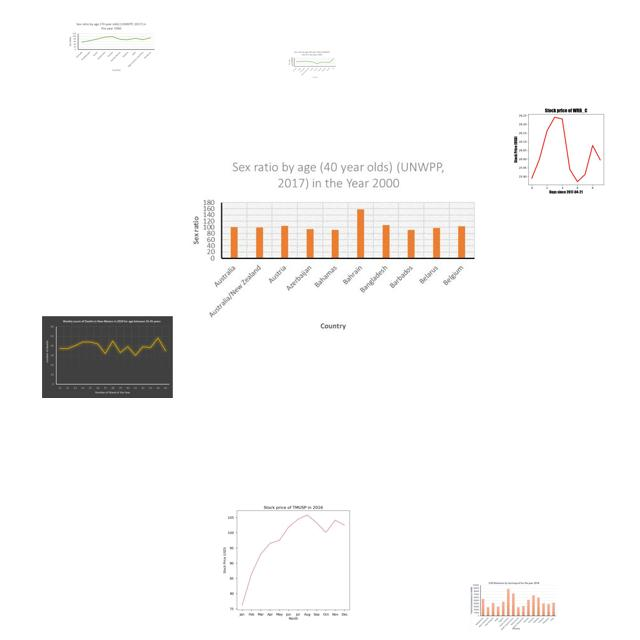Graph: (184, 155, 479, 336), (197, 495, 385, 624), (503, 103, 626, 195), (42, 316, 173, 398), (67, 21, 156, 73), (470, 581, 557, 631), (287, 50, 337, 79)
